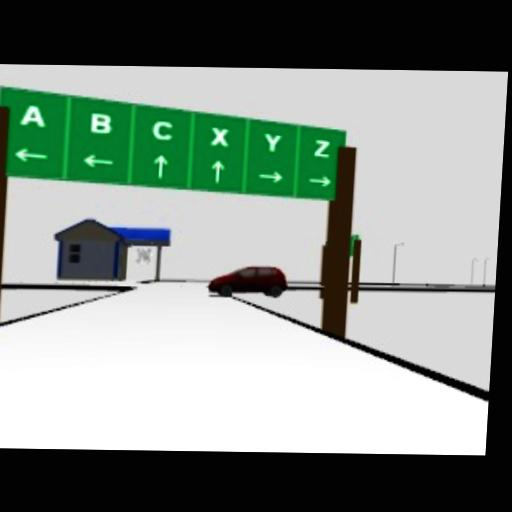Right: (256, 169, 284, 183), (308, 174, 333, 186)
